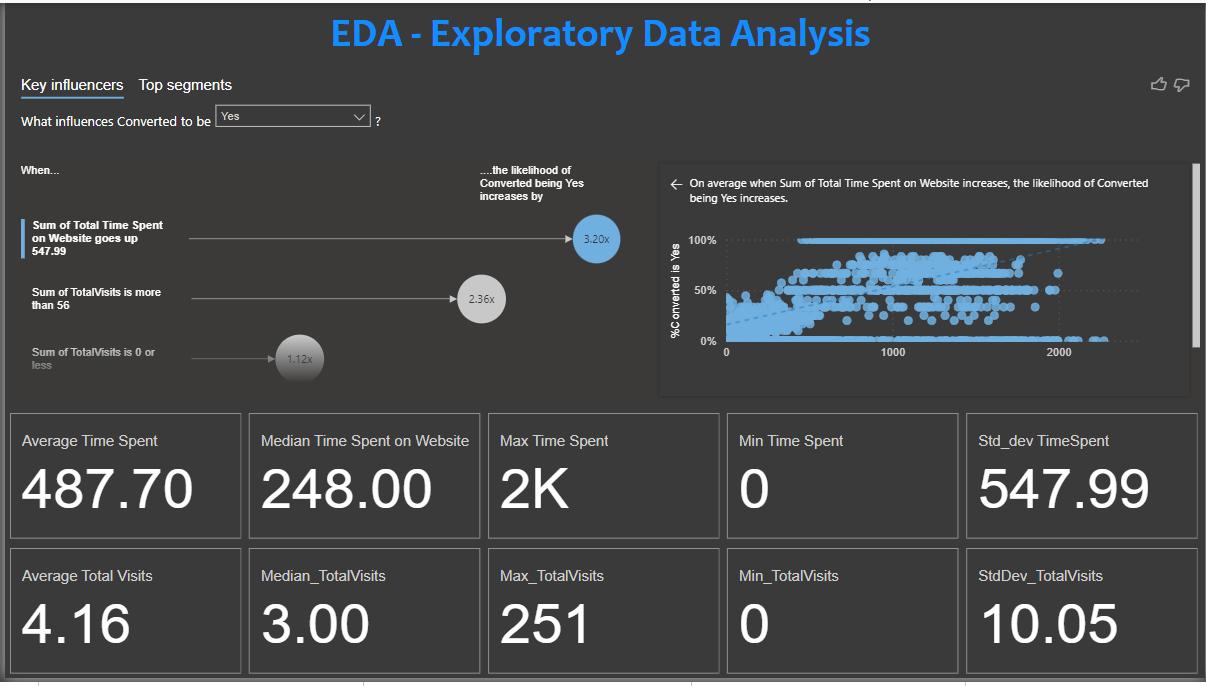

This screenshot's page, from the dashboard's own definition file:
{"tool":"powerbi","page":{"name":"EDA","canvas":[1280,720],"ordinal":0},"visuals":[{"type":"cardVisual","fields":{"Data":["Customer Lead Prediction.Average Total Visits","Customer Lead Prediction.Median_TotalVisits","Customer Lead Prediction.Max_TotalVisits","Customer Lead Prediction.Min_TotalVisits","Customer Lead Prediction.StdDev_TotalVisits"]},"box":[0,576,1280,144],"z":0},{"type":"cardVisual","fields":{"Data":["Customer Lead Prediction.Average Time Spent","Customer Lead Prediction.Median Time Spent on Website","Customer Lead Prediction.Max Time Spent","Customer Lead Prediction.Min Time Spent","Customer Lead Prediction.Std_dev TimeSpent"]},"box":[0,432,1280,144],"z":1000},{"type":"textbox","box":[0,0,1280,64],"z":3000},{"type":"keyDriversVisual","fields":{"ExplainBy":["Sum(Customer Lead Prediction.Total Time Spent on Website)","Sum(Customer Lead Prediction.TotalVisits)"],"Target":["Customer Lead Prediction.Converted"]},"box":[0,64,1280,368],"z":4000}]}

Visuals, with their boxes in screenshot pixels (x1, y1, x2, y2), scaled from the page's 1280x720 canvas onto the 1206x686 screenshot:
cardVisual - Customer Lead Prediction.Average Total Visits x Customer Lead Prediction.Median_TotalVisits: 0, 549, 1205, 685
cardVisual - Customer Lead Prediction.Average Time Spent x Customer Lead Prediction.Median Time Spent on Website: 0, 412, 1205, 549
textbox: 0, 0, 1205, 61
keyDriversVisual - Sum(Customer Lead Prediction.Total Time Spent on Website) x Sum(Customer Lead Prediction.TotalVisits): 0, 61, 1205, 412
